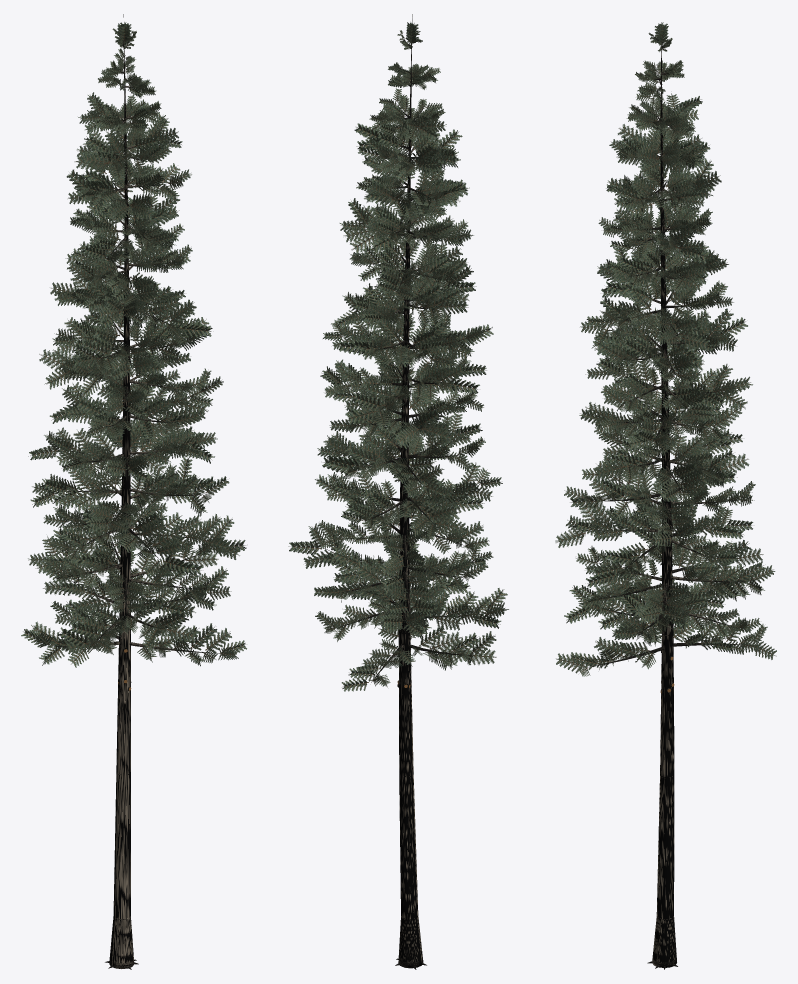
File: Sitka_Mature_02_LowPruned_Recent_LOD0.fbx
3 views of the same model, side by side, from view 1: azimuth 30°, elevation 25°; view 2: azimuth 150°, elevation 25°; view 3: azimuth 270°, elevation 25° (orthographic).
Parts seen in each view (by area): view 1: Sitka_Mature_02_LowPruned_Recent_LOD0; view 2: Sitka_Mature_02_LowPruned_Recent_LOD0; view 3: Sitka_Mature_02_LowPruned_Recent_LOD0.
Boxes of the visible parts, x1,y1,x2,y2 form: Sitka_Mature_02_LowPruned_Recent_LOD0: [21, 14, 246, 969]; Sitka_Mature_02_LowPruned_Recent_LOD0: [288, 14, 508, 969]; Sitka_Mature_02_LowPruned_Recent_LOD0: [555, 22, 776, 969].
Size of the model in its own units: 614 by 2600 by 589.
Materials: 3 (3 with a texture image).
